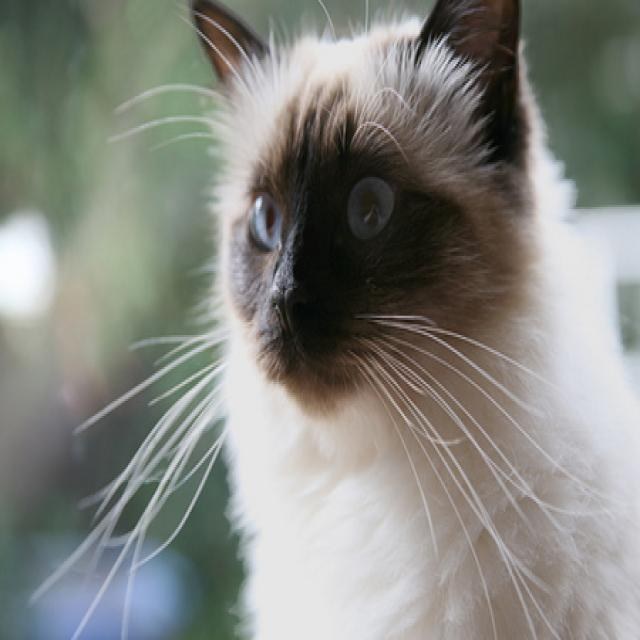Birman: (186, 0, 640, 640)
